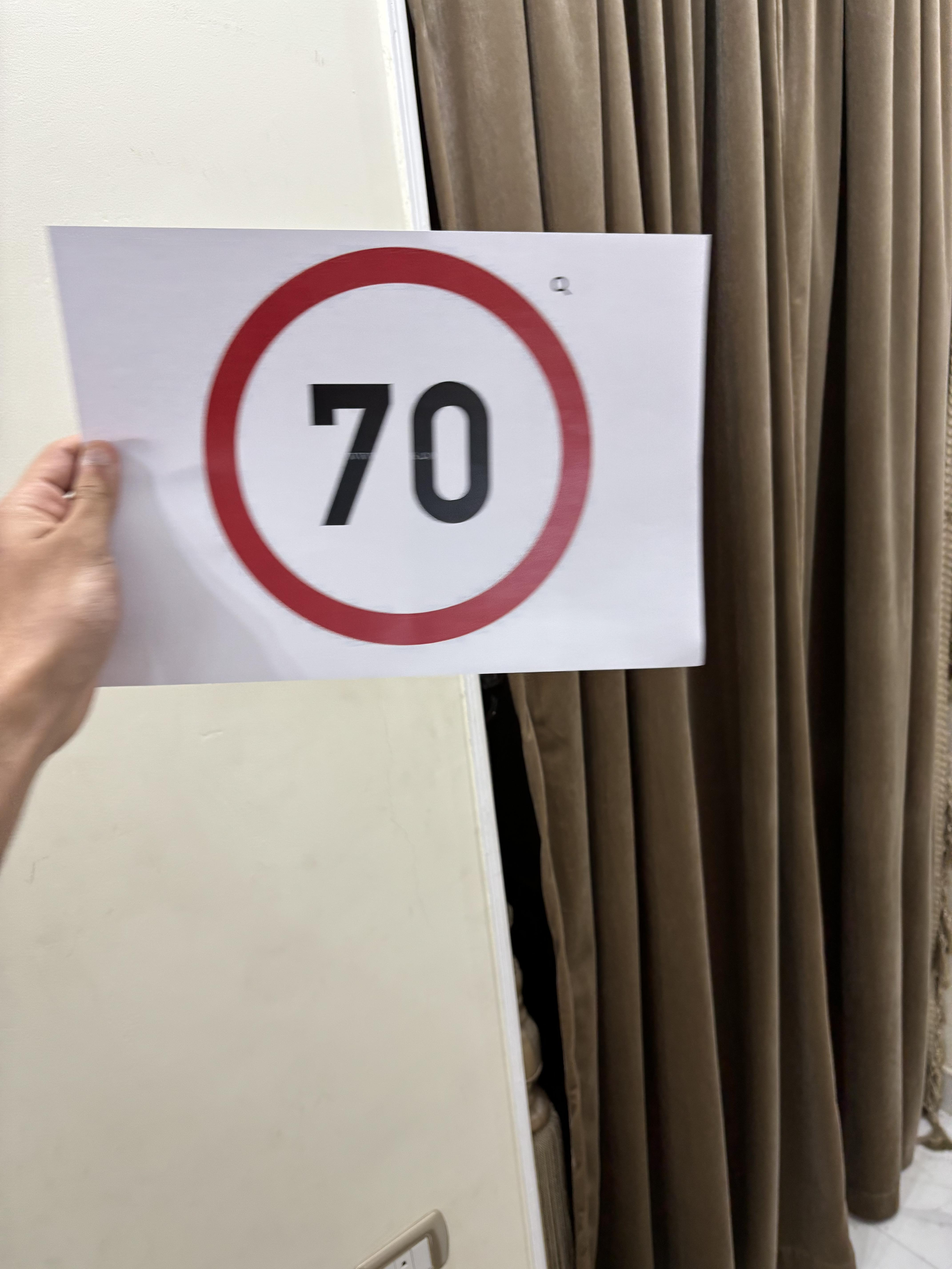70-Speed: (194, 238, 610, 653)
